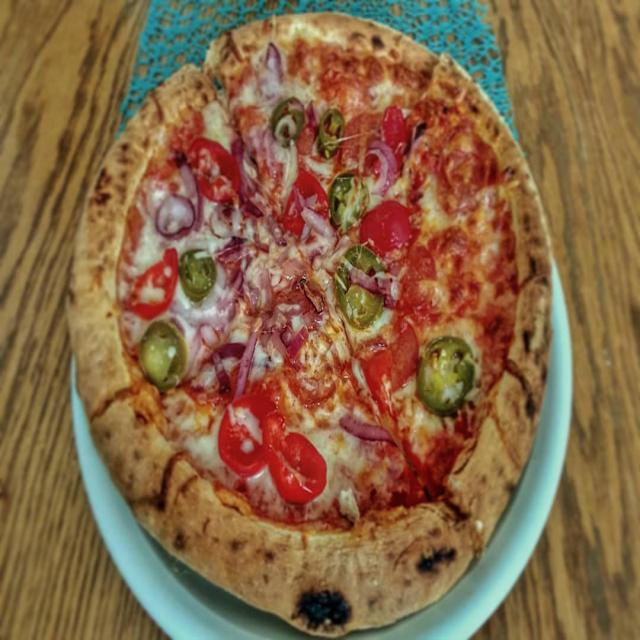pizza: (64, 0, 554, 640)
tomatoes: (356, 200, 412, 256)
